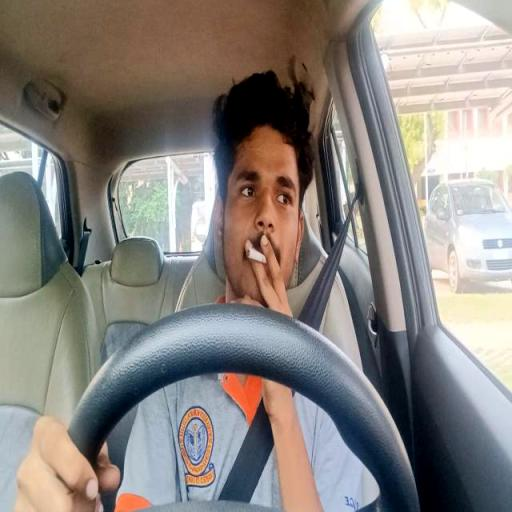Smoking: (18, 67, 382, 512)
